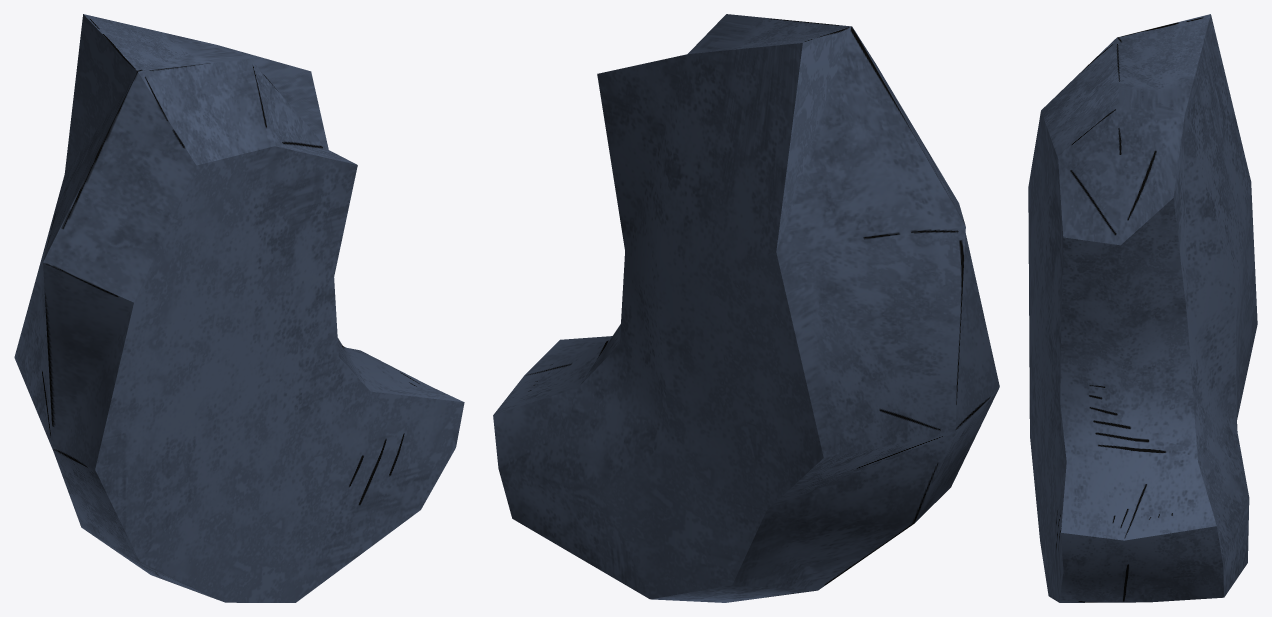
The model's file is Felsen_2.fbx.
3 renders of one model, left to right at view 1: azimuth 30°, elevation 25°; view 2: azimuth 150°, elevation 25°; view 3: azimuth 270°, elevation 25°, orthographic. The views are drawn at different scales.
Visible parts, largest first — view 1: Felsen_2; view 2: Felsen_2; view 3: Felsen_2.
Boxes of the visible parts, box(x1,y1,x2,y2) form: Felsen_2: box(14, 14, 464, 602); Felsen_2: box(493, 14, 999, 602); Felsen_2: box(1028, 14, 1257, 602).
Bounding box in the file's own units: 796 × 1087 × 423.
